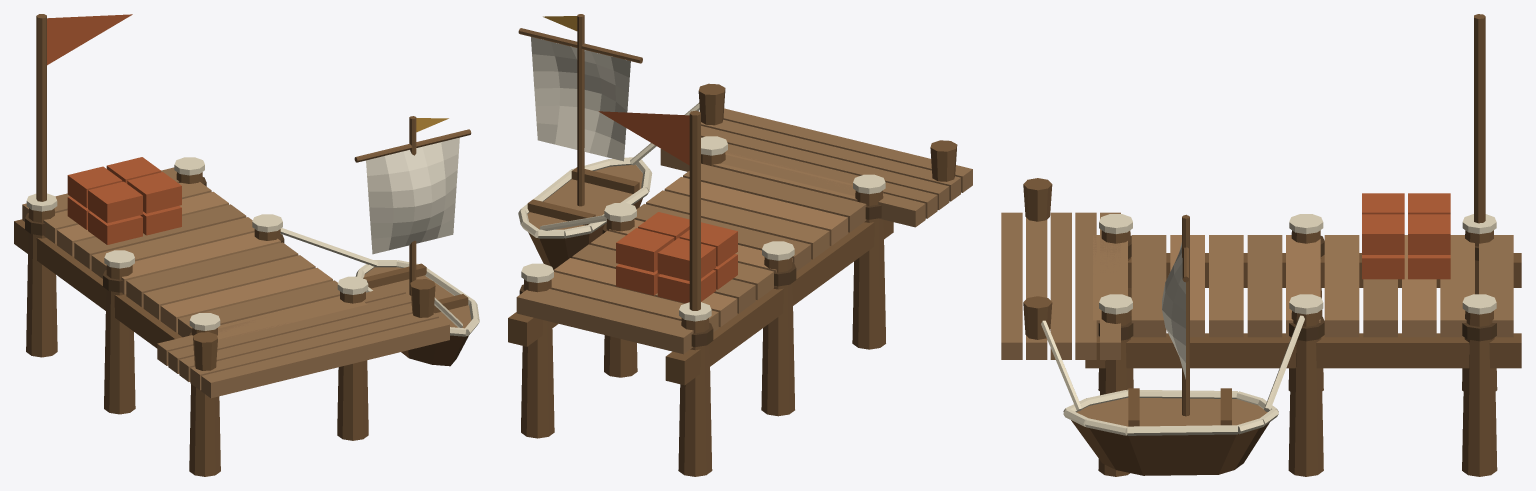
Rendered from harbor-brick.glb.
3 views of the same model, side by side, from view 1: azimuth 30°, elevation 25°; view 2: azimuth 150°, elevation 25°; view 3: azimuth 270°, elevation 25° (orthographic). The views are drawn at different scales.
Visible parts, largest first — view 1: harbor-brick, harbor-brick.003, harbor-brick.010, harbor-brick.001, harbor-brick.008, harbor-brick.002, harbor-brick.004, harbor-brick.006, harbor-brick.005, harbor-brick.007; view 2: harbor-brick.003, harbor-brick, harbor-brick.010, harbor-brick.008, harbor-brick.001, harbor-brick.004, harbor-brick.002, harbor-brick.005, harbor-brick.006, harbor-brick.007; view 3: harbor-brick.003, harbor-brick, harbor-brick.001, harbor-brick.004, harbor-brick.010, harbor-brick.002, harbor-brick.007, harbor-brick.006, harbor-brick.008, harbor-brick.005.
Part boxes in pixels (x1,y1,x2,y2): harbor-brick: (22, 167, 471, 398); harbor-brick.003: (14, 14, 471, 476); harbor-brick.010: (47, 14, 181, 244); harbor-brick.001: (43, 182, 367, 339); harbor-brick.008: (366, 137, 459, 254); harbor-brick.002: (57, 191, 332, 332); harbor-brick.004: (26, 157, 479, 336); harbor-brick.006: (401, 335, 464, 366); harbor-brick.005: (25, 177, 284, 335); harbor-brick.007: (408, 336, 468, 365); harbor-brick.003: (508, 14, 957, 476); harbor-brick: (516, 108, 972, 354); harbor-brick.010: (598, 111, 737, 303); harbor-brick.008: (531, 37, 630, 161); harbor-brick.001: (551, 152, 883, 332); harbor-brick.004: (518, 102, 885, 321); harbor-brick.002: (553, 177, 847, 326); harbor-brick.005: (519, 204, 881, 347); harbor-brick.006: (540, 198, 642, 269); harbor-brick.007: (528, 232, 589, 266); harbor-brick.003: (1023, 14, 1521, 476); harbor-brick: (1001, 212, 1513, 426); harbor-brick.001: (1093, 235, 1474, 337); harbor-brick.004: (1041, 214, 1496, 435); harbor-brick.010: (1362, 193, 1450, 279); harbor-brick.002: (1170, 235, 1436, 337); harbor-brick.007: (1071, 420, 1269, 475); harbor-brick.006: (1089, 428, 1258, 475); harbor-brick.008: (1162, 242, 1185, 379); harbor-brick.005: (1098, 236, 1496, 341).
Bounding box in the file's own units: 0.7868 × 0.735 × 0.93.
